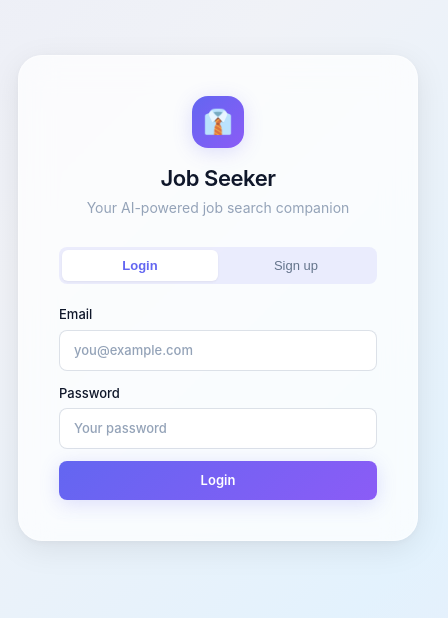
it: App - unauthenticated › switches between login and signup forms
Expected: the heading "Job Seeker" is shown, [160, 165, 276, 191]
Expected: the field with placeholder "you@example.com" is shown, [59, 330, 377, 371]
// Switch to signup
Click the button "Sign up".
click(296, 266)  # box [218, 250, 374, 281]
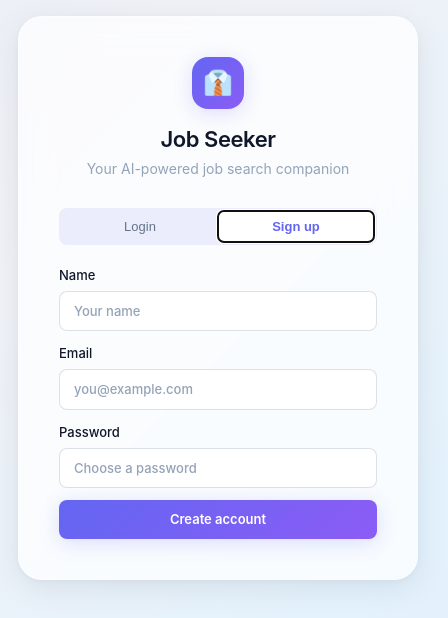
Expected: the field with placeholder "Your name" is shown, [59, 290, 377, 331]
Expected: the password field with placeholder "Choose a password" is shown, [59, 448, 377, 488]
